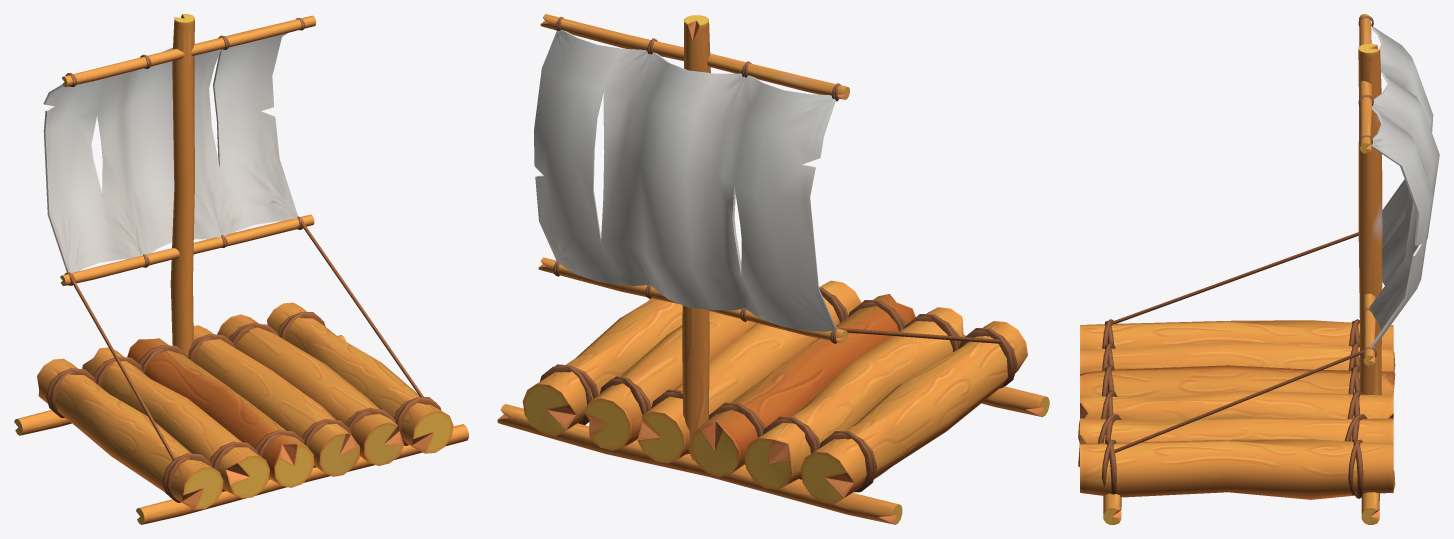
File: Raft.fbx
3 views of the same model, side by side, from view 1: azimuth 30°, elevation 25°; view 2: azimuth 150°, elevation 25°; view 3: azimuth 270°, elevation 25° (orthographic). The views are drawn at different scales.
Parts seen in each view (by area): view 1: Raft; view 2: Raft; view 3: Raft.
Part boxes in pixels (x1,y1,x2,y2): Raft: [14, 14, 468, 524]; Raft: [497, 14, 1049, 524]; Raft: [1078, 14, 1439, 524].
Size of the model in its own units: 4.41 by 4.87 by 3.99.
